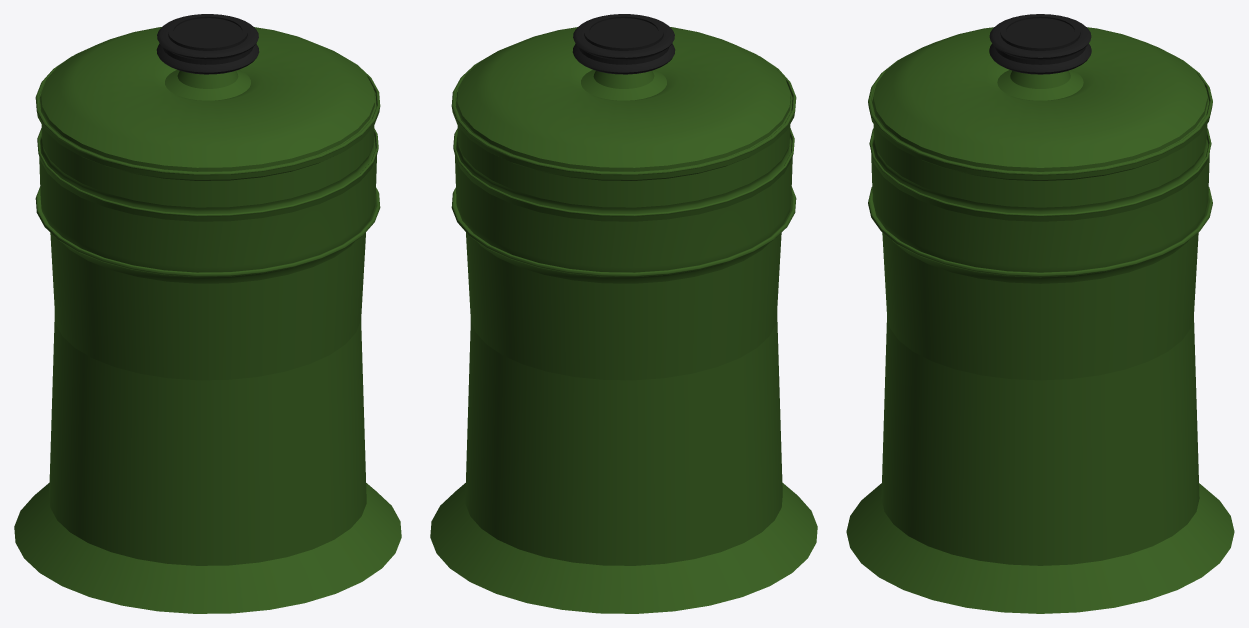
File: garbage_bottle.glb
3 renders of one model, left to right at view 1: azimuth 30°, elevation 25°; view 2: azimuth 150°, elevation 25°; view 3: azimuth 270°, elevation 25°, orthographic.
Parts seen in each view (by area): view 1: Bottle39; view 2: Bottle39; view 3: Bottle39.
Boxes of the visible parts, x1=… form: Bottle39: x1=14, y1=14, x2=401, y2=613; Bottle39: x1=430, y1=14, x2=817, y2=613; Bottle39: x1=846, y1=14, x2=1234, y2=613.
Bounding box in the file's own units: 1.64 × 2.33 × 1.64.
